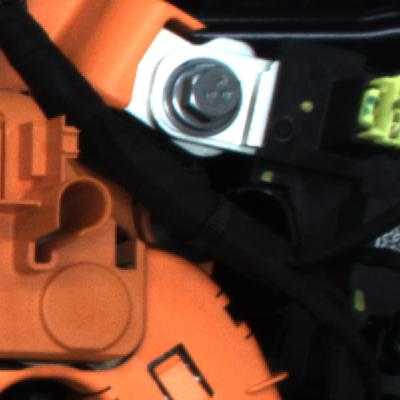nut_b: (152, 53, 266, 140)
